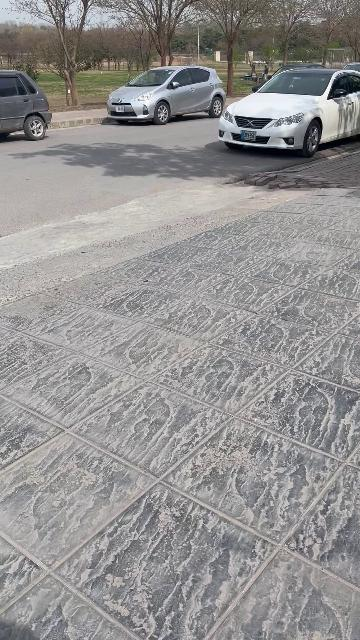plate: (241, 130, 255, 141)
